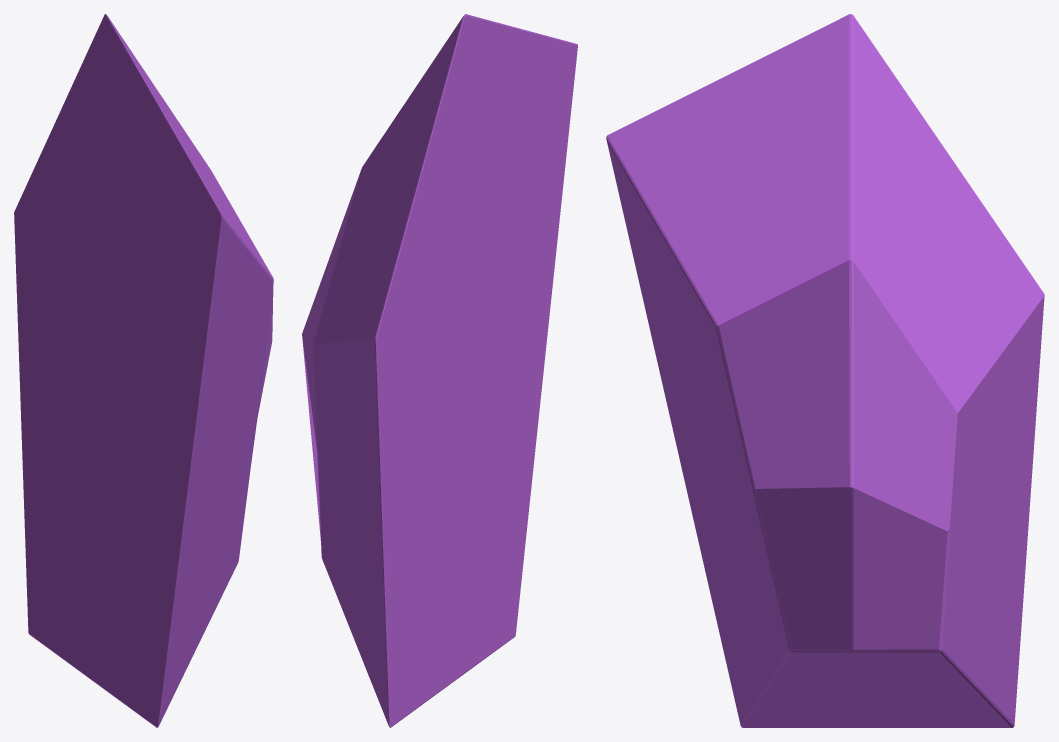
File: Piedras_roja.fbx
The picture shows the model from 3 angles, left to right: view 1: azimuth 30°, elevation 25°; view 2: azimuth 150°, elevation 25°; view 3: azimuth 270°, elevation 25°; orthographic projection. The views are drawn at different scales.
Visible parts, largest first — view 1: Piedra_roja; view 2: Piedra_roja; view 3: Piedra_roja.
Boxes of the visible parts, x1,y1,x2,y2 form: Piedra_roja: [14, 14, 273, 727]; Piedra_roja: [302, 14, 577, 727]; Piedra_roja: [606, 14, 1044, 727].
Bounding box in the file's own units: 61.05 × 236 × 131.
